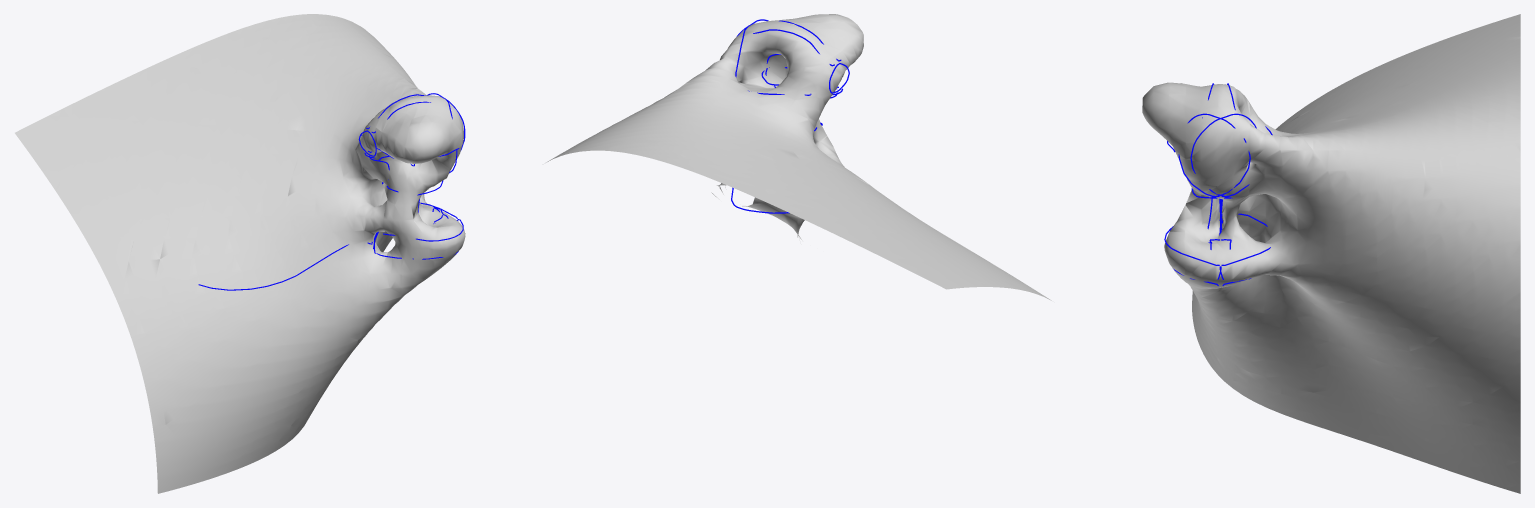
File: cassie_p12_lamp_sketch_proxy.glb
3 views of the same model, side by side, from view 1: azimuth 30°, elevation 25°; view 2: azimuth 150°, elevation 25°; view 3: azimuth 270°, elevation 25° (orthographic). The views are drawn at different scales.
Visible parts, largest first — view 1: cassie_p12_lamp_surface, cassie_p12_lamp; view 2: cassie_p12_lamp_surface, cassie_p12_lamp; view 3: cassie_p12_lamp_surface, cassie_p12_lamp.
Boxes of the visible parts, x1=… form: cassie_p12_lamp_surface: x1=15, y1=14, x2=465, y2=493; cassie_p12_lamp: x1=198, y1=93, x2=465, y2=290; cassie_p12_lamp_surface: x1=546, y1=14, x2=1051, y2=300; cassie_p12_lamp: x1=731, y1=19, x2=849, y2=213; cassie_p12_lamp_surface: x1=1142, y1=14, x2=1520, y2=493; cassie_p12_lamp: x1=1164, y1=83, x2=1272, y2=285.
Size of the model in its own units: 1.59 by 1.26 by 1.18.
